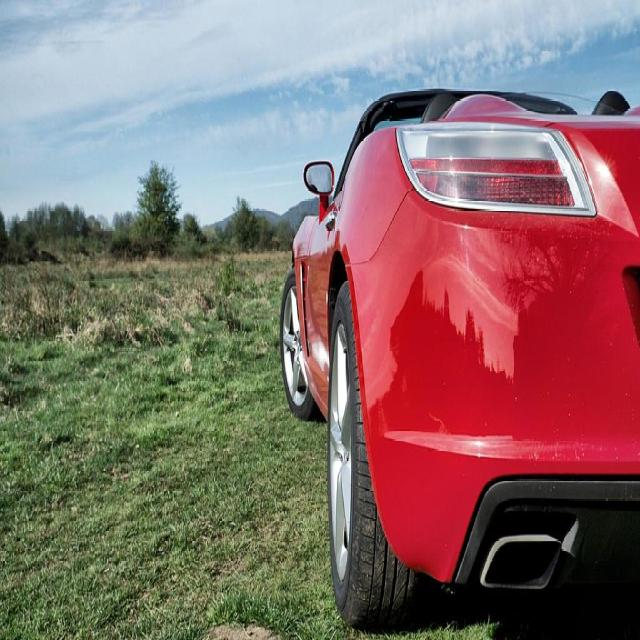car: (278, 53, 626, 619)
